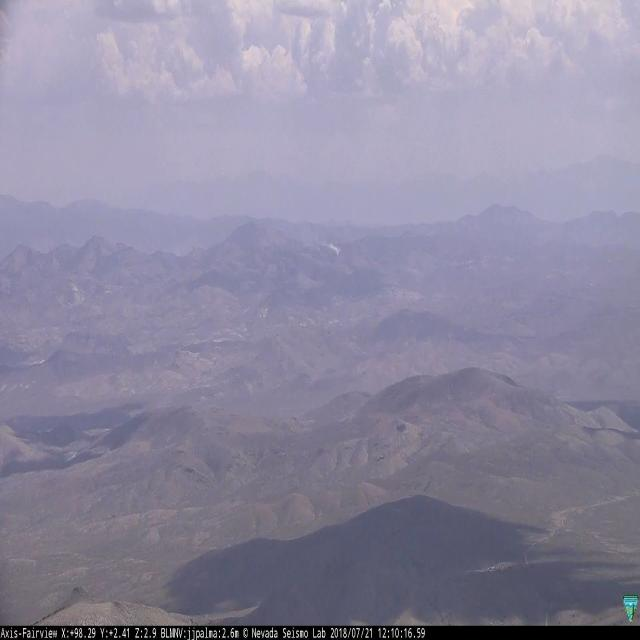smoke: (321, 235, 340, 256)
